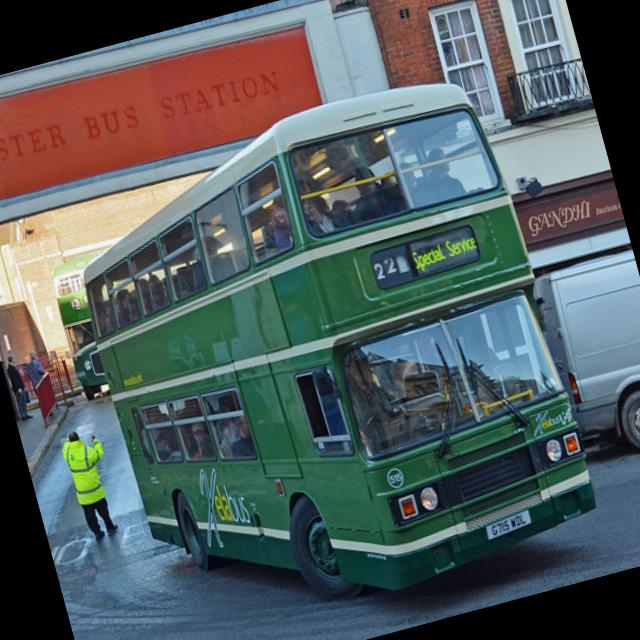Vehicle: (54, 68, 607, 640), (533, 240, 640, 467), (45, 252, 139, 402), (46, 252, 136, 400)
